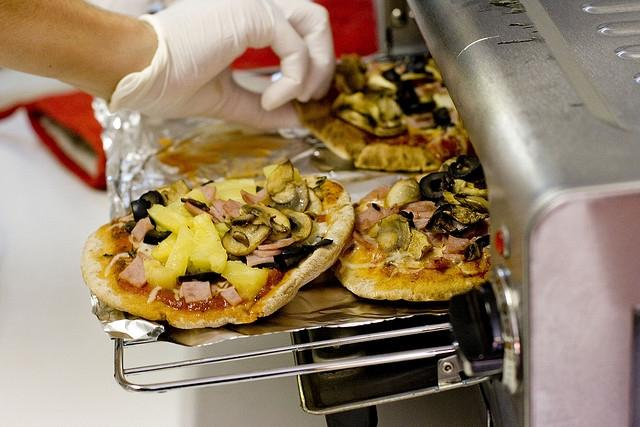mushroom: (266, 159, 310, 213), (334, 107, 407, 139), (367, 213, 413, 256), (239, 204, 291, 242), (222, 221, 272, 256), (399, 202, 438, 233), (280, 209, 313, 244), (385, 178, 421, 208), (404, 228, 432, 260), (451, 204, 489, 224), (454, 193, 489, 214), (257, 236, 295, 250), (463, 242, 481, 262)
pineapple: (190, 212, 228, 274), (221, 259, 268, 300), (165, 226, 199, 276), (147, 204, 194, 235), (205, 178, 256, 204), (166, 188, 208, 218), (151, 232, 178, 264), (150, 267, 177, 290)
